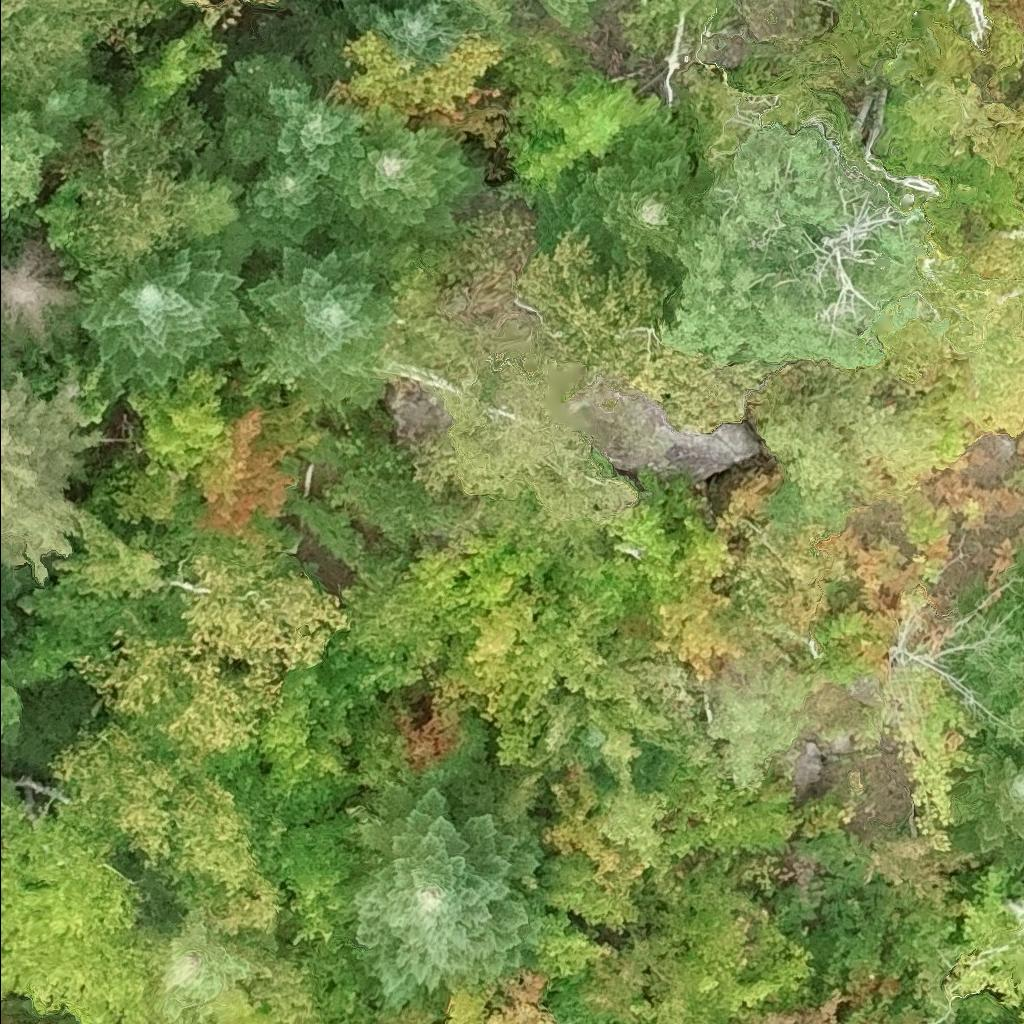crown: (661, 122, 924, 368), (515, 228, 760, 432), (335, 770, 541, 1012), (0, 797, 173, 1023), (412, 363, 643, 527), (584, 879, 819, 1023), (535, 105, 713, 282), (323, 103, 491, 279), (73, 241, 252, 404), (70, 629, 260, 782), (178, 551, 345, 720), (227, 662, 358, 874), (235, 242, 395, 409), (542, 585, 681, 776), (0, 350, 111, 587), (81, 95, 218, 268), (149, 777, 284, 950), (500, 65, 662, 195), (48, 721, 180, 870), (0, 0, 169, 113), (401, 534, 528, 669), (3, 576, 138, 690), (339, 28, 509, 118), (945, 554, 1023, 747), (184, 408, 293, 542), (269, 806, 365, 946), (542, 767, 648, 893), (444, 588, 538, 721), (213, 49, 313, 168), (127, 363, 231, 476), (156, 898, 250, 1023), (324, 0, 499, 67), (338, 563, 448, 666), (945, 743, 1023, 879), (119, 21, 230, 112), (605, 496, 692, 610), (596, 756, 678, 876), (63, 506, 168, 599), (654, 580, 745, 682), (533, 849, 641, 931), (239, 154, 331, 248), (495, 602, 566, 722), (0, 243, 80, 345), (832, 0, 945, 70), (273, 97, 367, 181), (864, 835, 979, 902), (35, 64, 120, 147), (450, 966, 555, 1023), (308, 935, 376, 1023), (946, 951, 1023, 1023), (249, 958, 328, 1023), (539, 911, 603, 978), (675, 516, 733, 586), (753, 987, 849, 1023), (0, 657, 26, 747), (540, 0, 600, 34), (0, 560, 19, 636), (468, 0, 519, 25), (237, 1001, 281, 1023), (276, 0, 343, 13), (0, 775, 16, 801), (846, 1011, 876, 1023), (182, 0, 214, 9), (249, 0, 279, 3)
